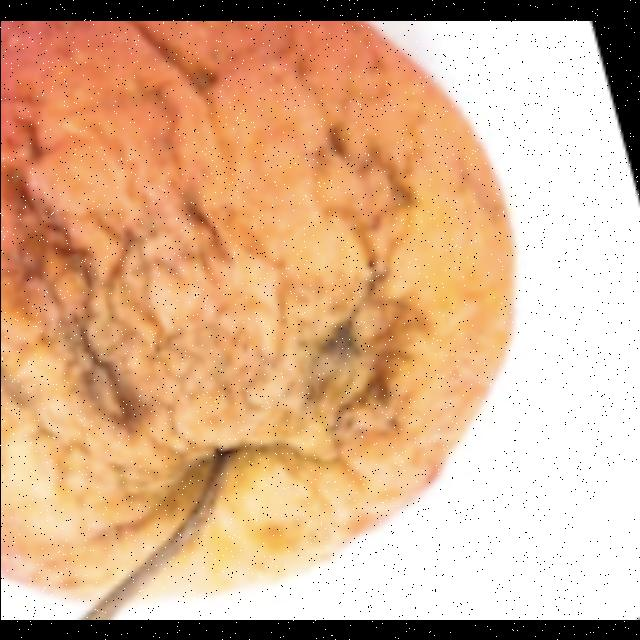Apel Tidak Segar: (1, 21, 600, 620)
